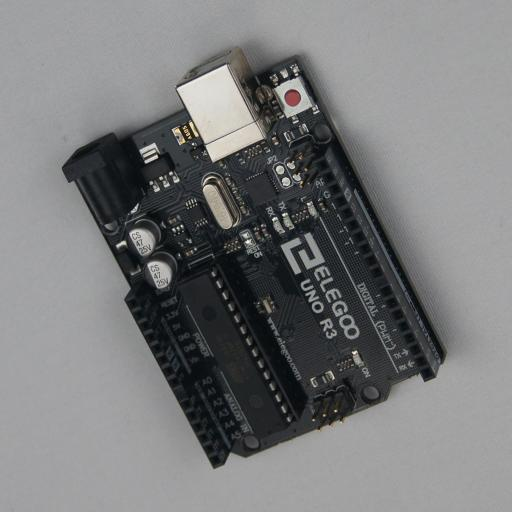Arduino Uno -Black-: (62, 48, 447, 469)
